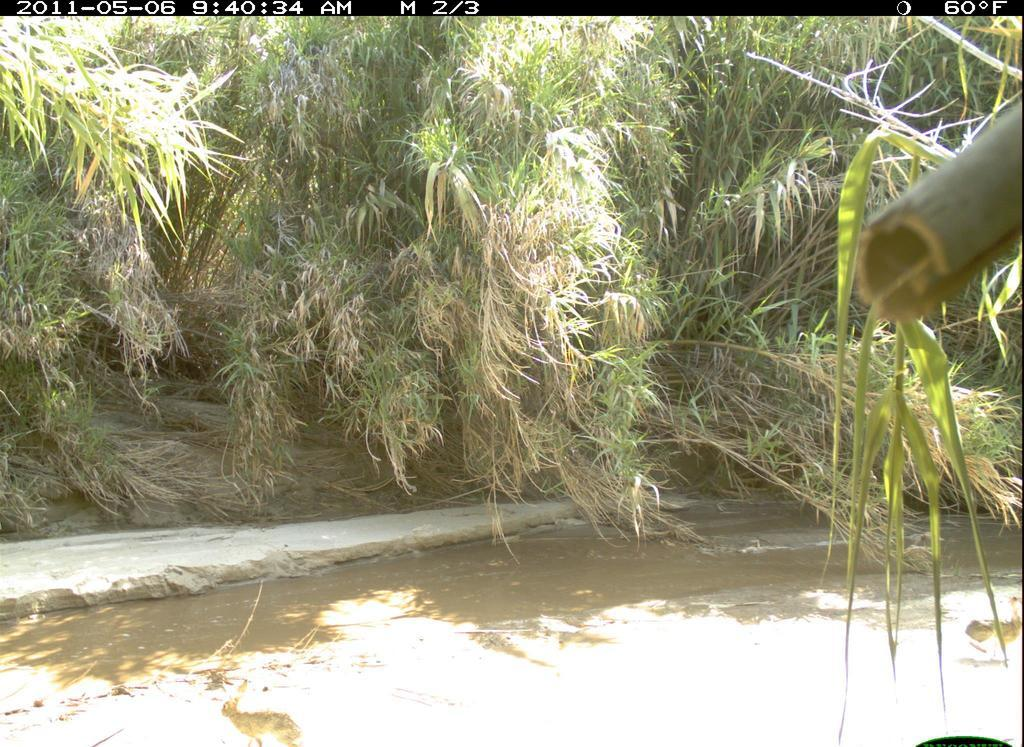rabbit: (207, 666, 321, 747), (937, 571, 1023, 675)
